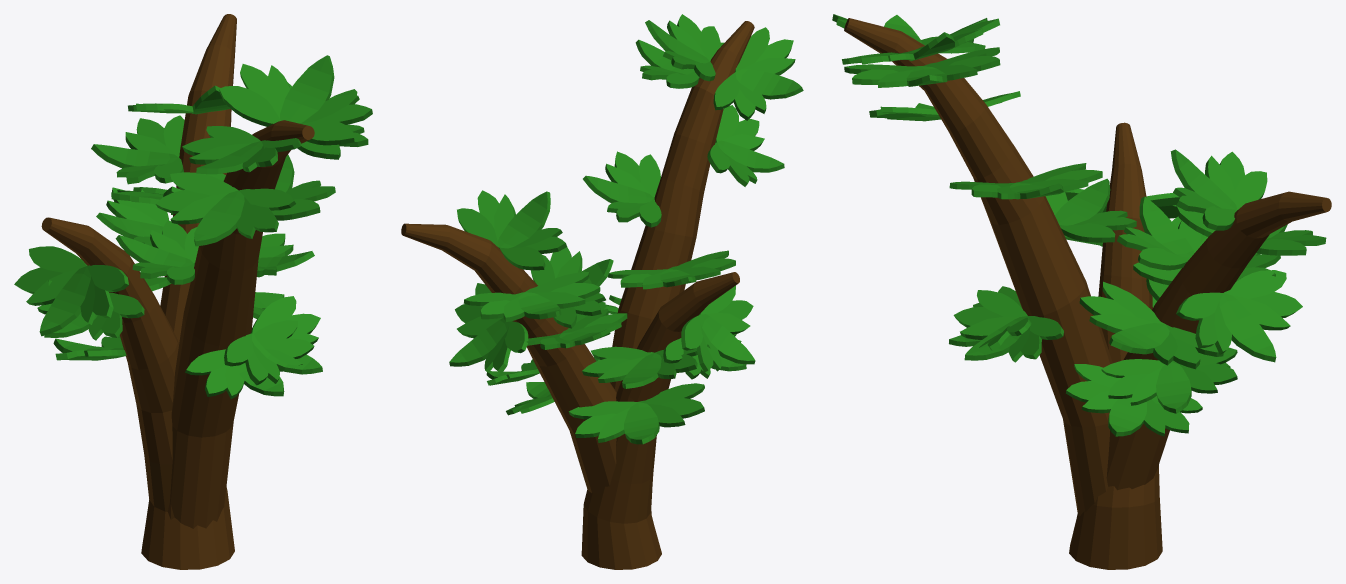
Rendered from Arbusto2Hoja3.fbx.
3 views of the same model, side by side, from view 1: azimuth 30°, elevation 25°; view 2: azimuth 150°, elevation 25°; view 3: azimuth 270°, elevation 25° (orthographic). The views are drawn at different scales.
Parts seen in each view (by area): view 1: RamasArbusto2Hoja3; view 2: RamasArbusto2Hoja3; view 3: RamasArbusto2Hoja3.
Boxes of the visible parts, box(x1,y1,x2,y2) form: RamasArbusto2Hoja3: box(14, 14, 372, 569); RamasArbusto2Hoja3: box(401, 14, 803, 569); RamasArbusto2Hoja3: box(832, 14, 1331, 569).
Size of the model in its own units: 74.53 by 127 by 106.
